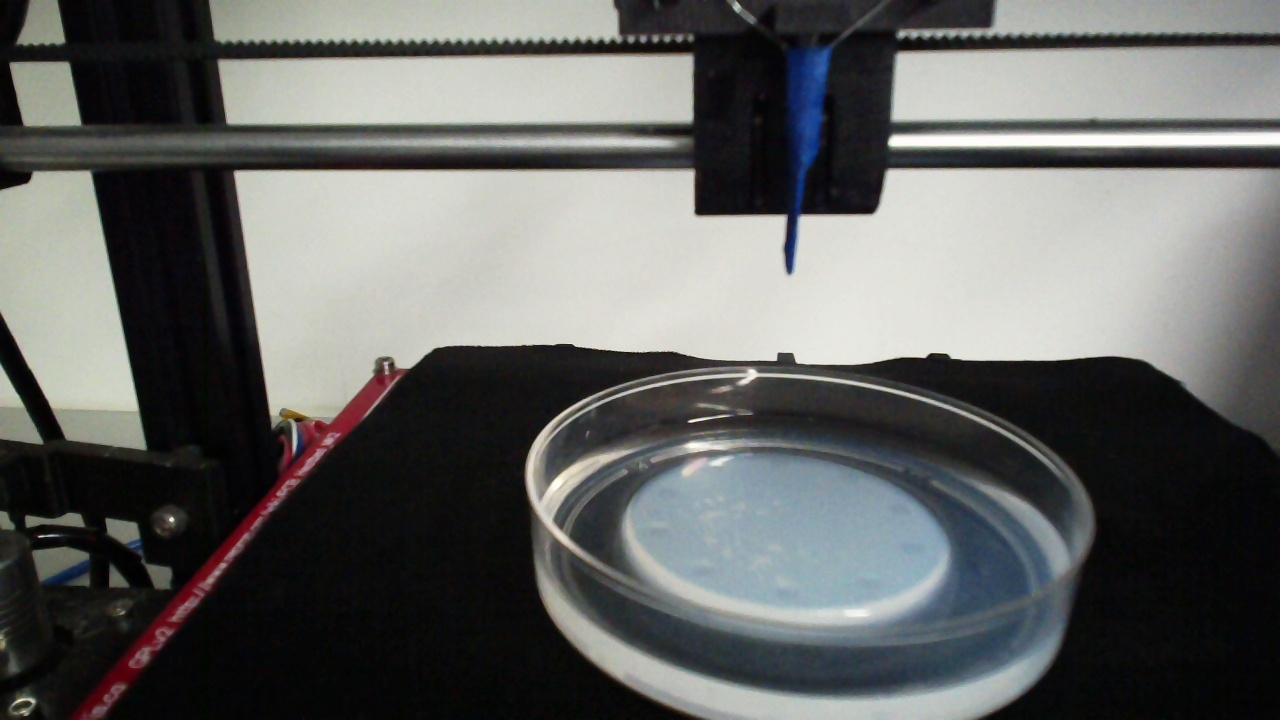groove: (767, 579, 802, 604), (897, 535, 928, 558), (685, 558, 717, 580), (852, 571, 883, 593), (639, 522, 671, 541), (886, 499, 913, 519), (653, 484, 681, 501)
needle: (784, 51, 830, 275)
